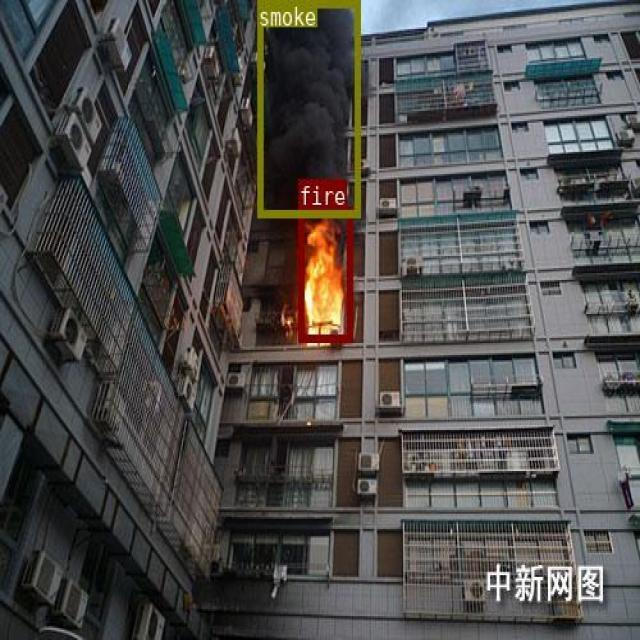fire: (298, 207, 351, 341)
smoke: (257, 0, 359, 215)
